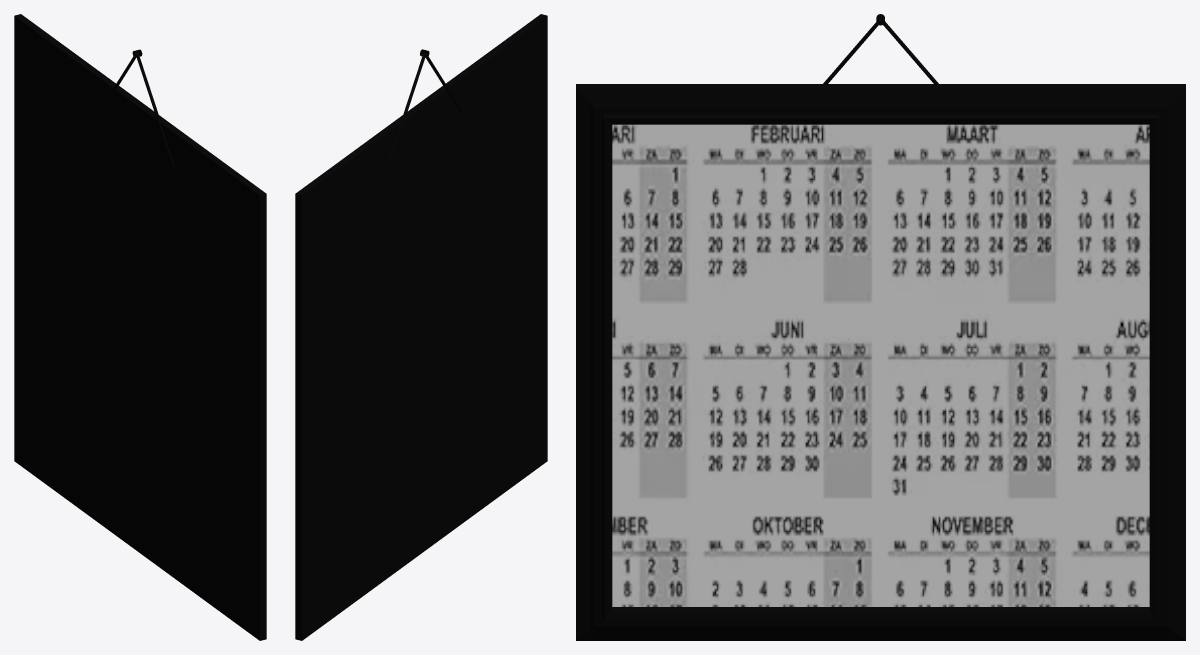
The model's file is Kalender.glb.
3 renders of one model, left to right at view 1: azimuth 30°, elevation 25°; view 2: azimuth 150°, elevation 25°; view 3: azimuth 270°, elevation 25°, orthographic. The views are drawn at different scales.
Parts seen in each view (by area): view 1: Cube.016; view 2: Cube.016; view 3: Cube.016.
Boxes of the visible parts, bbox=[...] form: Cube.016: bbox=[14, 14, 266, 640]; Cube.016: bbox=[295, 14, 547, 640]; Cube.016: bbox=[576, 14, 1185, 640].
Size of the model in its own units: 0.066 by 1.85 by 1.65.
2 materials, 2 textured.
